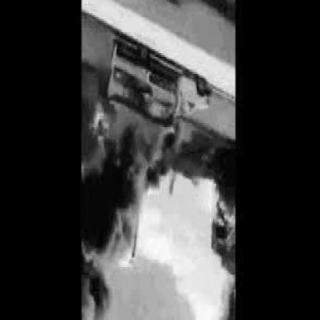Fire: (106, 97, 162, 179)
Smoke: (82, 173, 134, 294)
